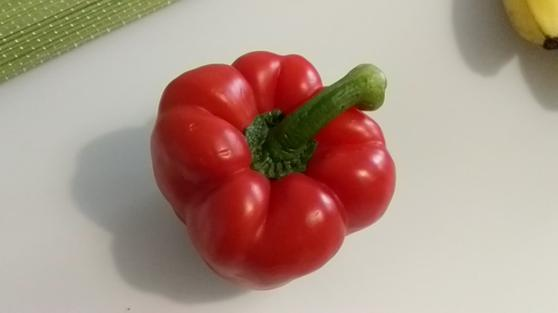pepper: (153, 47, 402, 286)
